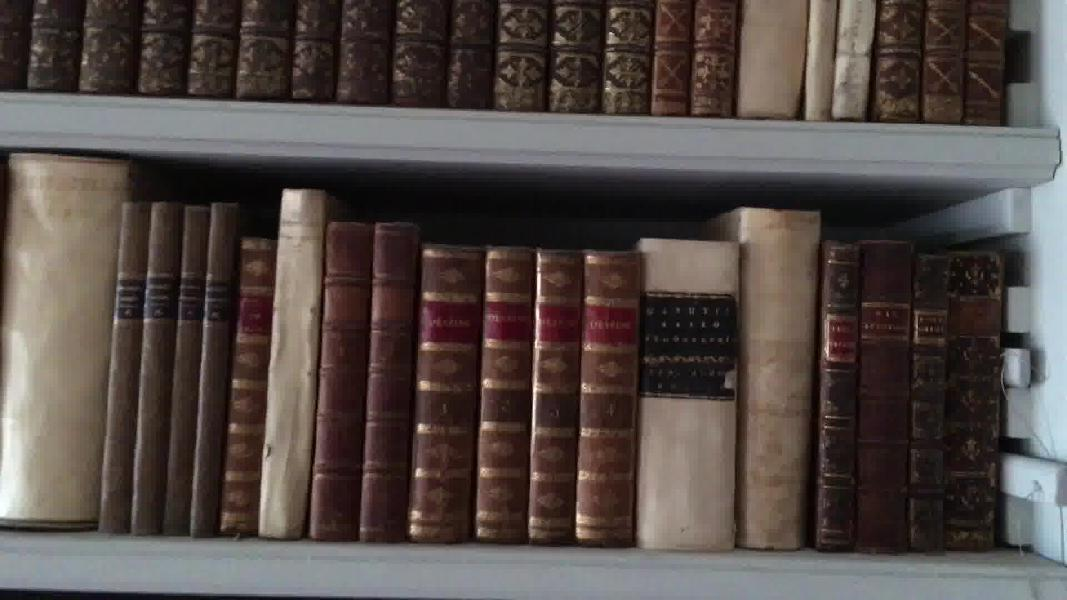Kk4-14: (5, 150, 123, 535)
Kk4-15_16: (102, 195, 178, 537)
Kk4-17_18: (161, 195, 245, 549)
Kk4-19: (218, 228, 275, 543)
Kk4-20: (258, 181, 327, 549)
Kk4-21_22: (305, 216, 417, 543)
Kk4-23_26: (408, 239, 643, 543)
Kk4-27: (632, 223, 746, 559)
Kk4-28: (732, 199, 823, 555)
Kk4-29: (814, 235, 863, 552)
Kk4-30: (854, 234, 915, 559)
Kk4-31: (910, 249, 950, 561)
Kk4-32: (946, 248, 1005, 559)
